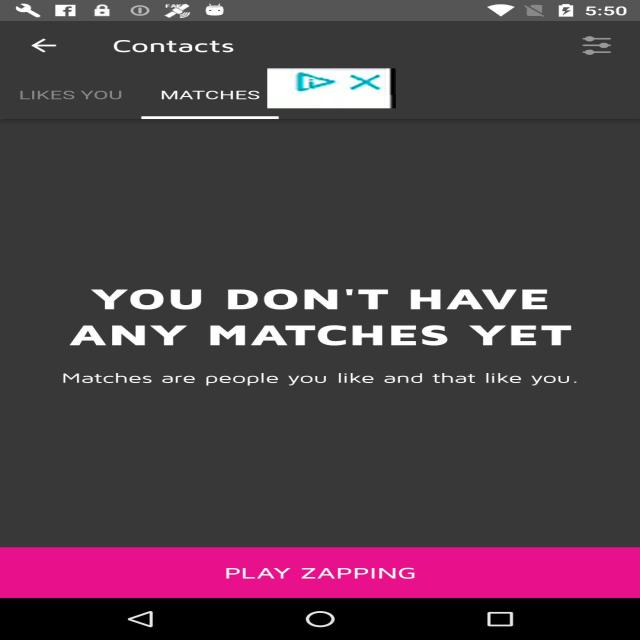sneaking: (267, 68, 396, 108)
